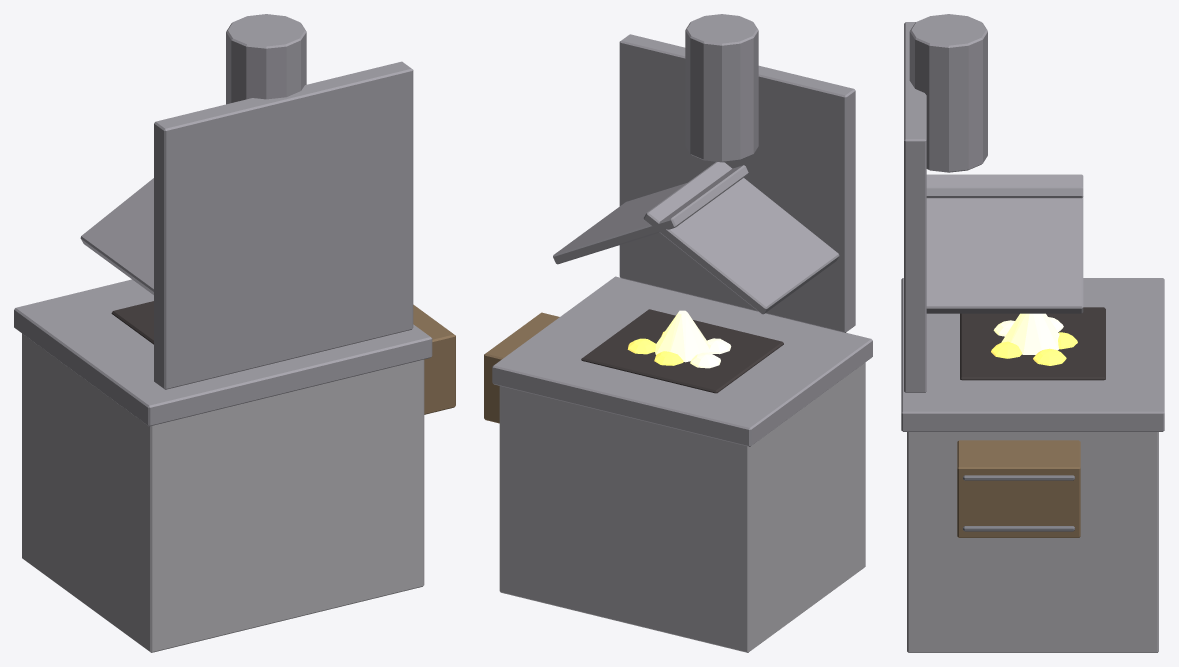
The model's file is dgn_forge.glb.
3 renders of one model, left to right at view 1: azimuth 30°, elevation 25°; view 2: azimuth 150°, elevation 25°; view 3: azimuth 270°, elevation 25°, orthographic. The views are drawn at different scales.
Parts seen in each view (by area): view 1: dgn_forge; view 2: dgn_forge; view 3: dgn_forge.
Boxes of the visible parts, left/top/right/bottom form: dgn_forge: left=14, top=14, right=455, bottom=652; dgn_forge: left=484, top=14, right=872, bottom=652; dgn_forge: left=901, top=14, right=1164, bottom=652.
Bounding box in the file's own units: 1.36 × 2.2 × 0.94.
